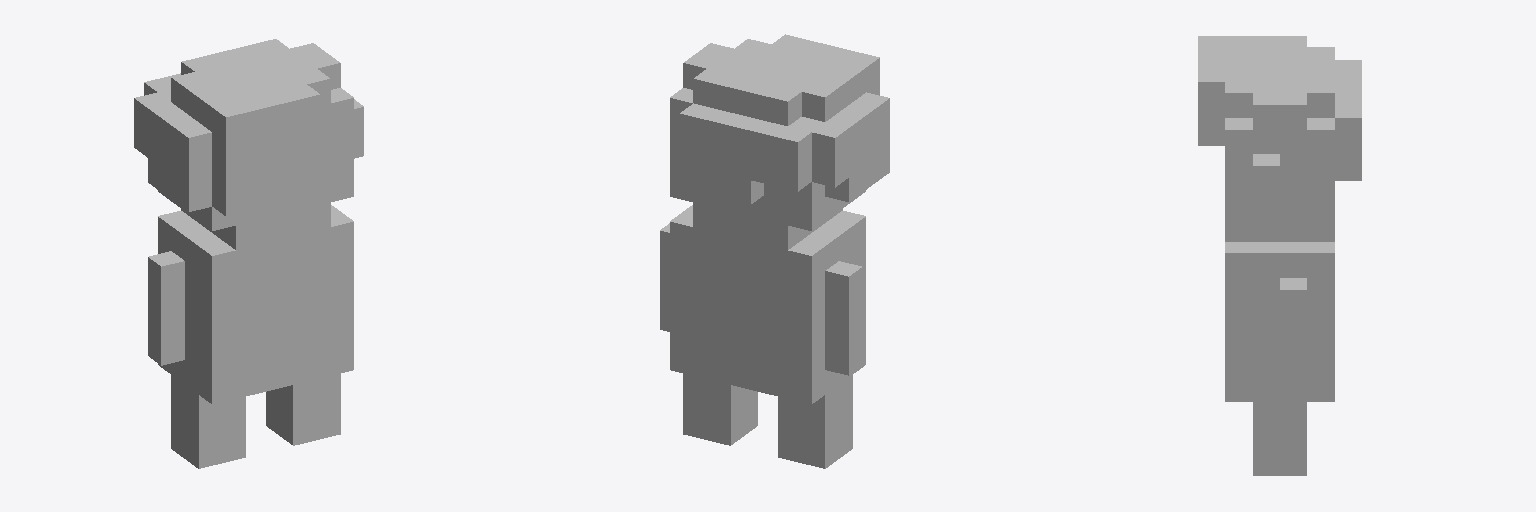
Rendered from chr_boy.obj.
The picture shows the model from 3 angles: view 1: azimuth 30°, elevation 25°; view 2: azimuth 150°, elevation 25°; view 3: azimuth 270°, elevation 25°; orthographic projection.
Parts seen in each view (by area): view 1: chr_boy; view 2: chr_boy; view 3: chr_boy.
Boxes of the visible parts, x1=… form: chr_boy: x1=134, y1=39, x2=363, y2=468; chr_boy: x1=660, y1=34, x2=889, y2=468; chr_boy: x1=1198, y1=36, x2=1361, y2=475.
Bounding box in the file's own units: 8 × 15 × 6.